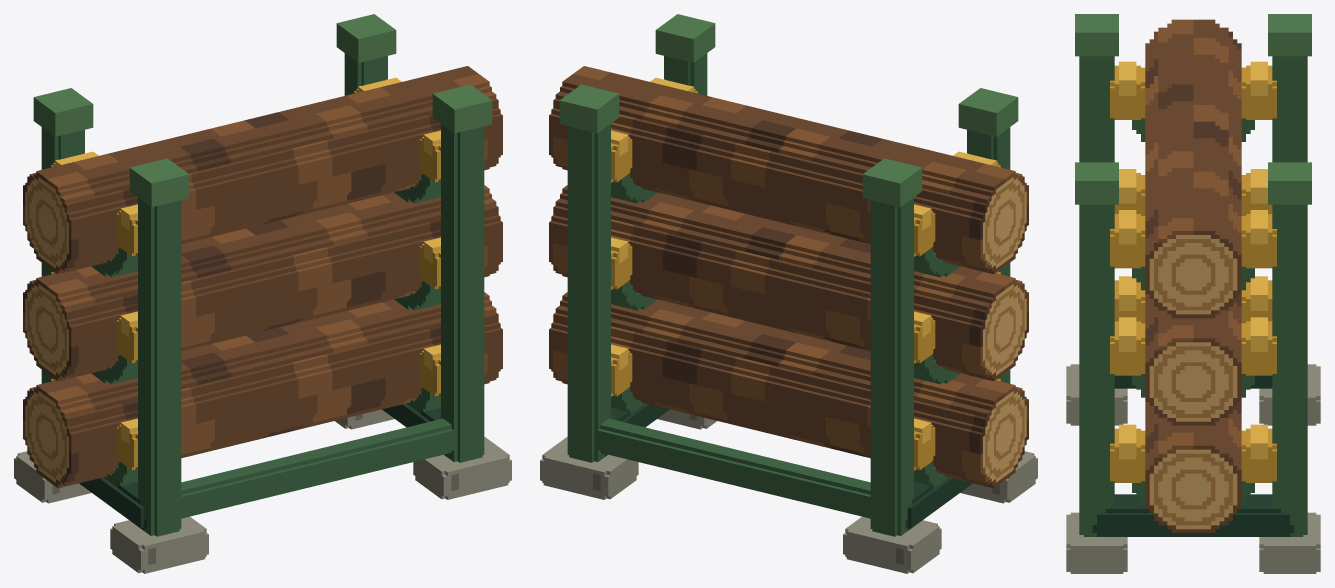
The model's file is log_rack.glb.
The picture shows the model from 3 angles, left to right: view 1: azimuth 30°, elevation 25°; view 2: azimuth 150°, elevation 25°; view 3: azimuth 270°, elevation 25°; orthographic projection.
Parts seen in each view (by area): view 1: log_rack; view 2: log_rack; view 3: log_rack.
Boxes of the visible parts, box(x1,y1,x2,y2) form: log_rack: box(14, 14, 511, 573); log_rack: box(540, 14, 1037, 573); log_rack: box(1066, 14, 1320, 573).
Bounding box in the file's own units: 5.7 × 4.85 × 2.9.
